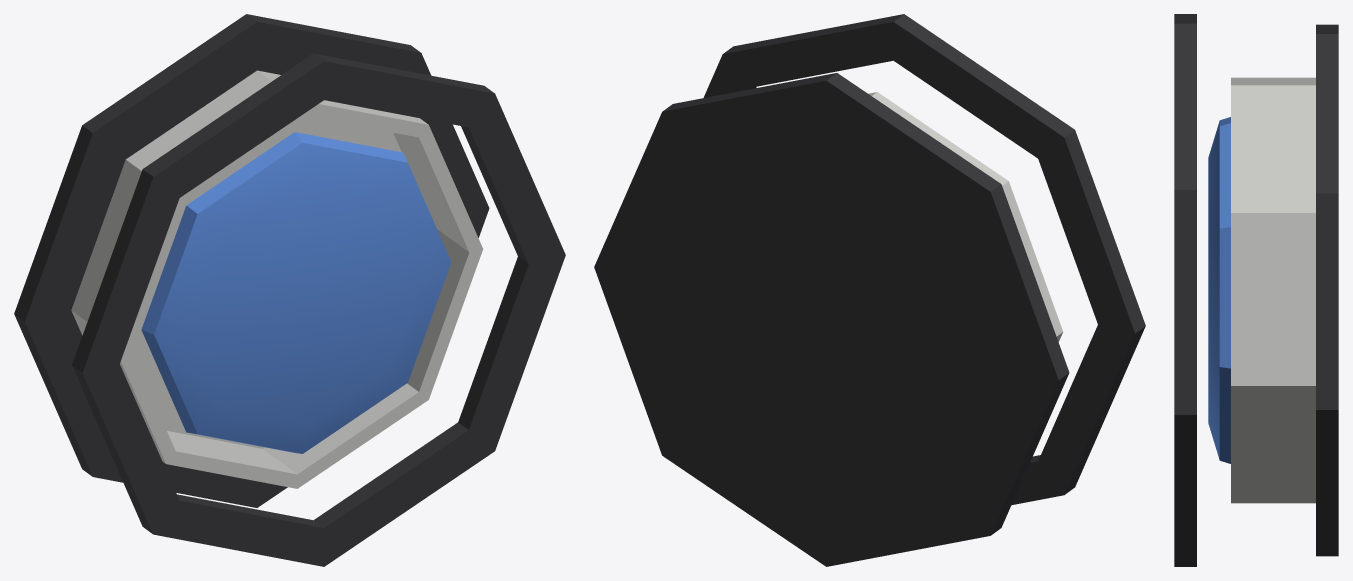
File: clutch_lod2.glb
3 views of the same model, side by side, from view 1: azimuth 30°, elevation 25°; view 2: azimuth 150°, elevation 25°; view 3: azimuth 270°, elevation 25° (orthographic). The views are drawn at different scales.
Parts seen in each view (by area): view 1: clutch_lod2; view 2: clutch_lod2; view 3: clutch_lod2.
Part boxes in pixels (x1=…): clutch_lod2: x1=14, y1=14, x2=565, y2=566; clutch_lod2: x1=594, y1=14, x2=1145, y2=566; clutch_lod2: x1=1174, y1=14, x2=1338, y2=566.
Bounding box in the file's own units: 0.208 × 0.208 × 0.058.
